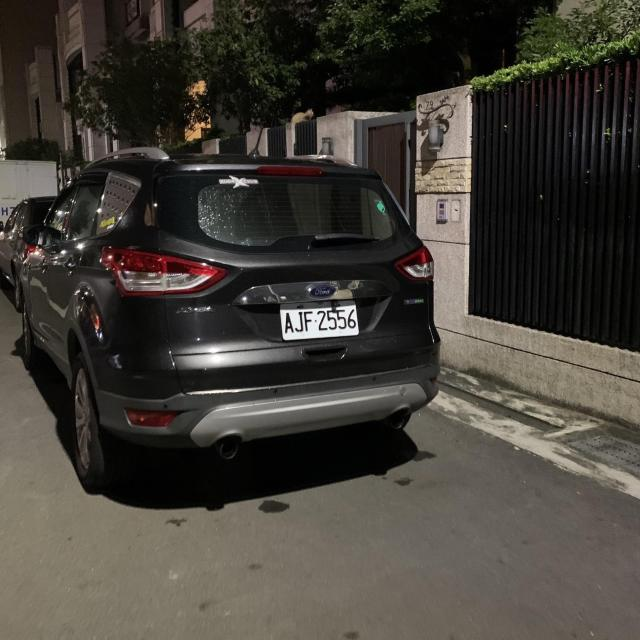W: (275, 299, 361, 342)
